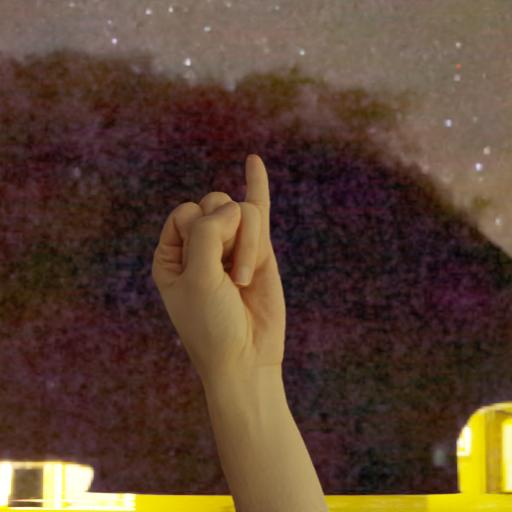I: (148, 150, 300, 379)
